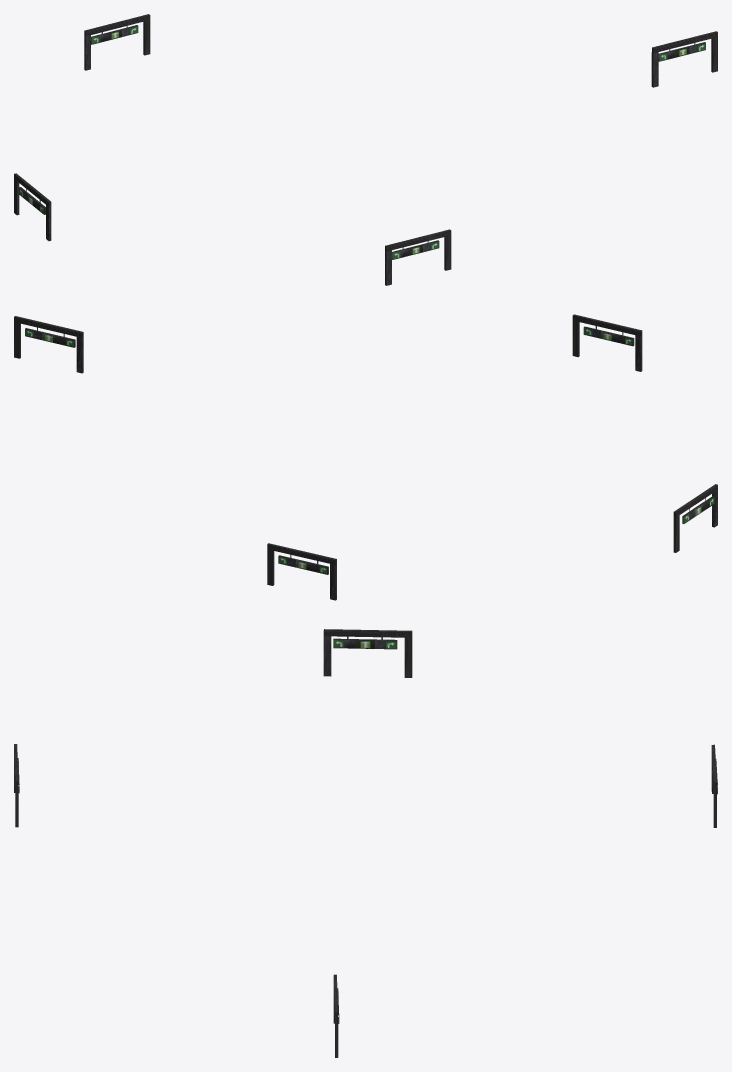
The model's file is CHANGES (sign board).fbx.
3 renders of one model, top to bottom at view 1: azimuth 30°, elevation 25°; view 2: azimuth 150°, elevation 25°; view 3: azimuth 270°, elevation 25°, orthographic. The views are drawn at different scales.
Parts seen in each view (by area): view 1: sign gate, sign gate.002, sign gate.003, sign gate.001; view 2: sign gate, sign gate.002, sign gate.003, sign gate.001; view 3: sign gate.001.
Boxes of the visible parts, bbox=[...] form: sign gate: bbox=[385, 229, 451, 285]; sign gate.002: bbox=[84, 14, 150, 70]; sign gate.003: bbox=[651, 31, 717, 87]; sign gate.001: bbox=[14, 173, 51, 241]; sign gate: bbox=[572, 314, 642, 371]; sign gate.002: bbox=[267, 543, 336, 600]; sign gate.003: bbox=[14, 316, 83, 373]; sign gate.001: bbox=[673, 484, 717, 552]; sign gate.001: bbox=[323, 629, 412, 677].
Bounding box in the file's own units: 25642 × 1499 × 19780.
4 materials, 4 textured.
